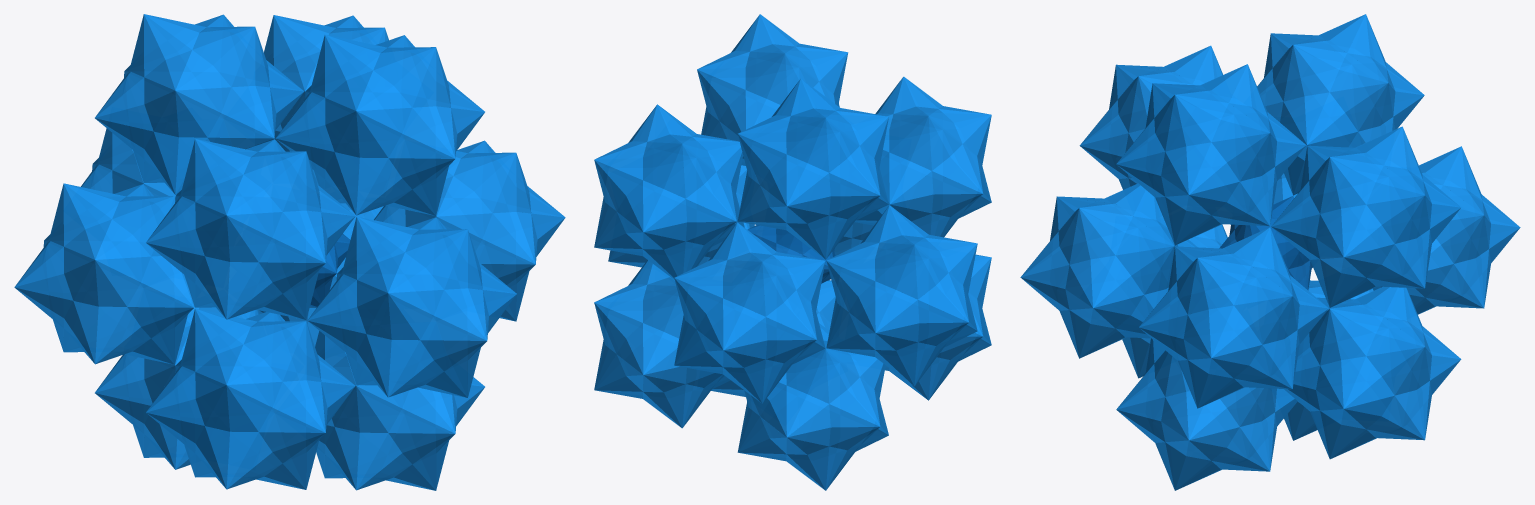
The model's file is fractalsmallrhombidodecacron1.glb.
The picture shows the model from 3 angles, left to right: view 1: azimuth 30°, elevation 25°; view 2: azimuth 150°, elevation 25°; view 3: azimuth 270°, elevation 25°; orthographic projection. The views are drawn at different scales.
Bounding box in the file's own units: 11.25 × 9.84 × 11.25.
